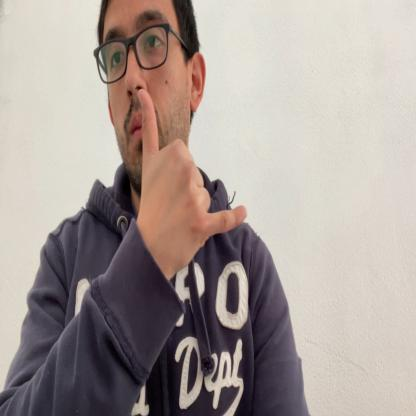Y: (138, 89, 248, 263)
